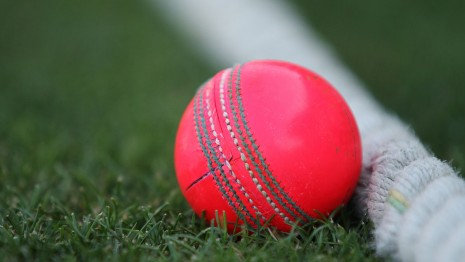red ball: (174, 60, 364, 236)
